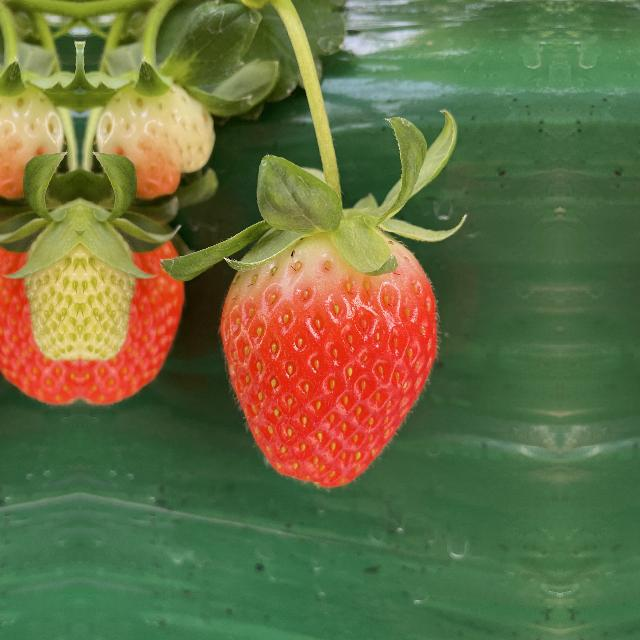Health_100: (221, 208, 444, 494), (80, 214, 190, 410), (0, 213, 80, 410)
Health_25: (31, 206, 80, 364), (80, 206, 128, 364)
Health_50: (103, 76, 213, 202), (0, 76, 57, 202)
